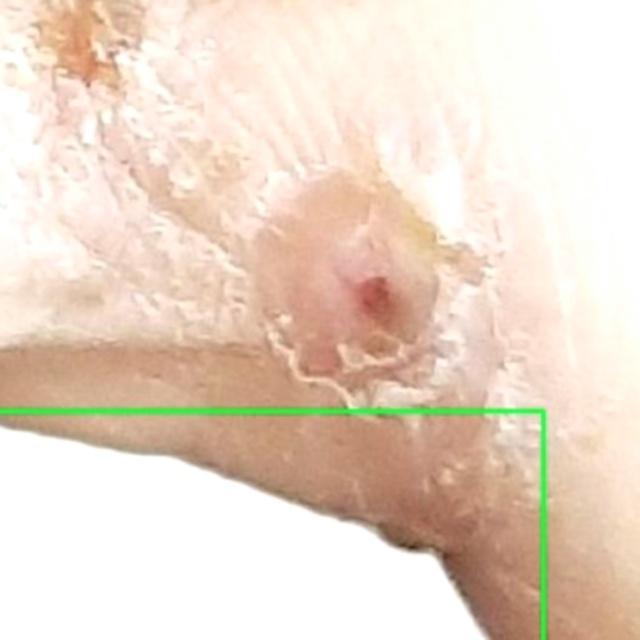Contact Dermatitis: (0, 411, 543, 639)
